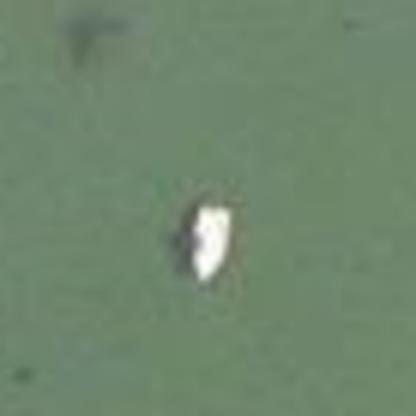ship: (164, 189, 248, 292)
